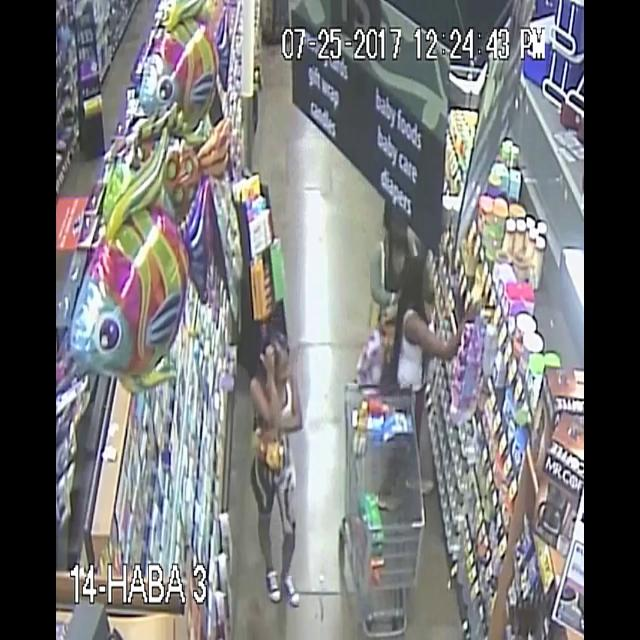normal: (245, 284, 315, 626), (378, 210, 482, 428), (364, 148, 414, 276)
